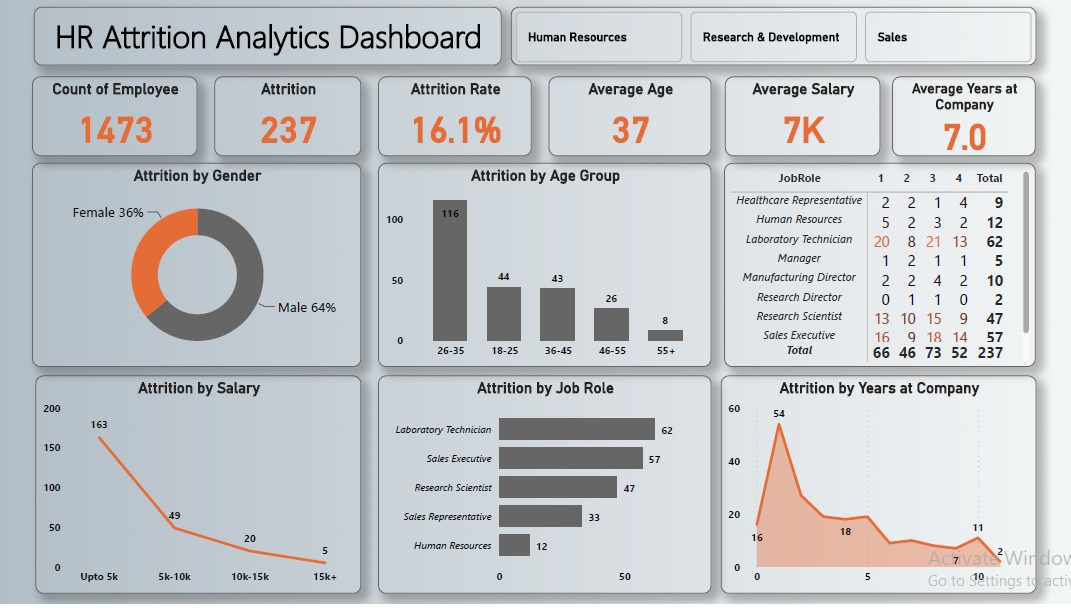

This screenshot's page, from the dashboard's own definition file:
{"tool":"powerbi","page":{"name":"Page 1","canvas":[1280,720],"ordinal":0},"visuals":[{"type":"card","title":"Count of Employee","fields":{"Values":["Sum(HR_Analytics.EmployeeCount)"]},"box":[38.3,91.7,196.7,95],"z":0},{"type":"card","title":"Average Salary","fields":{"Values":["Avg(HR_Analytics.MonthlyIncome)"]},"box":[863.3,91.7,185,95],"z":1000},{"type":"card","title":"Attrition","fields":{"Values":["Sum(HR_Analytics.AttritionCount)"]},"box":[255,91.7,175,95],"z":2000},{"type":"card","title":"Attrition Rate","fields":{"Values":["HR_Analytics.AttritionRate"]},"box":[450,91.7,183.3,95],"z":3000},{"type":"card","title":"Average Age","fields":{"Values":["Avg(HR_Analytics.Age)"]},"box":[653.3,91.7,193.3,95],"z":4000},{"type":"card","title":"Average Years at Company","fields":{"Values":["Avg(HR_Analytics.YearsAtCompany)"]},"box":[1061.7,91.7,171.7,95],"z":5000},{"type":"columnChart","title":"Attrition by Age Group","fields":{"Category":["HR_Analytics.AgeGroup"],"Y":["Sum(HR_Analytics.AttritionCount)"]},"box":[450,195,396.7,243.3],"z":6000},{"type":"pivotTable","fields":{"Rows":["HR_Analytics.JobRole"],"Values":["Sum(HR_Analytics.AttritionCount)"],"Columns":["HR_Analytics.JobSatisfaction"]},"box":[861.7,195,371.7,243.3],"z":7000},{"type":"lineChart","title":"Attrition by Salary","fields":{"Category":["HR_Analytics.SalarySlab"],"Y":["Sum(HR_Analytics.AttritionCount)"]},"box":[41.7,448.3,388.3,260],"z":8000},{"type":"barChart","title":"Attrition by Job Role","fields":{"Category":["HR_Analytics.JobRole"],"Y":["Sum(HR_Analytics.AttritionCount)"]},"box":[450,448.3,396.7,260],"z":9000},{"type":"areaChart","title":"Attrition by Years at Company","fields":{"Category":["HR_Analytics.YearsAtCompany"],"Y":["Sum(HR_Analytics.AttritionCount)"]},"box":[858.1,447.7,375.5,260.6],"z":10000},{"type":"donutChart","title":"Attrition by Gender","fields":{"Category":["HR_Analytics.Gender"],"Y":["Sum(HR_Analytics.AttritionCount)"]},"box":[38.3,195,391.7,243.3],"z":11000},{"type":"advancedSlicerVisual","fields":{"Values":["HR_Analytics.Department"]},"box":[608,9,626,70],"z":13000},{"type":"textbox","box":[40,9,557,70],"z":13001}]}

Visuals, with their boxes in screenshot pixels (x1, y1, x2, y2), scaled from the page's 1280x720 canvas onto the 1071x610 screenshot:
"Count of Employee" card: [32,78,197,158]
"Average Salary" card: [722,78,877,158]
"Attrition" card: [213,78,360,158]
"Attrition Rate" card: [377,78,530,158]
"Average Age" card: [547,78,708,158]
"Average Years at Company" card: [888,78,1032,158]
"Attrition by Age Group" columnChart: [377,165,708,371]
pivotTable - HR_Analytics.JobRole x Sum(HR_Analytics.AttritionCount): [721,165,1032,371]
"Attrition by Salary" lineChart: [35,380,360,600]
"Attrition by Job Role" barChart: [377,380,708,600]
"Attrition by Years at Company" areaChart: [718,379,1032,600]
"Attrition by Gender" donutChart: [32,165,360,371]
advancedSlicerVisual - HR_Analytics.Department: [509,8,1033,67]
textbox: [33,8,500,67]
